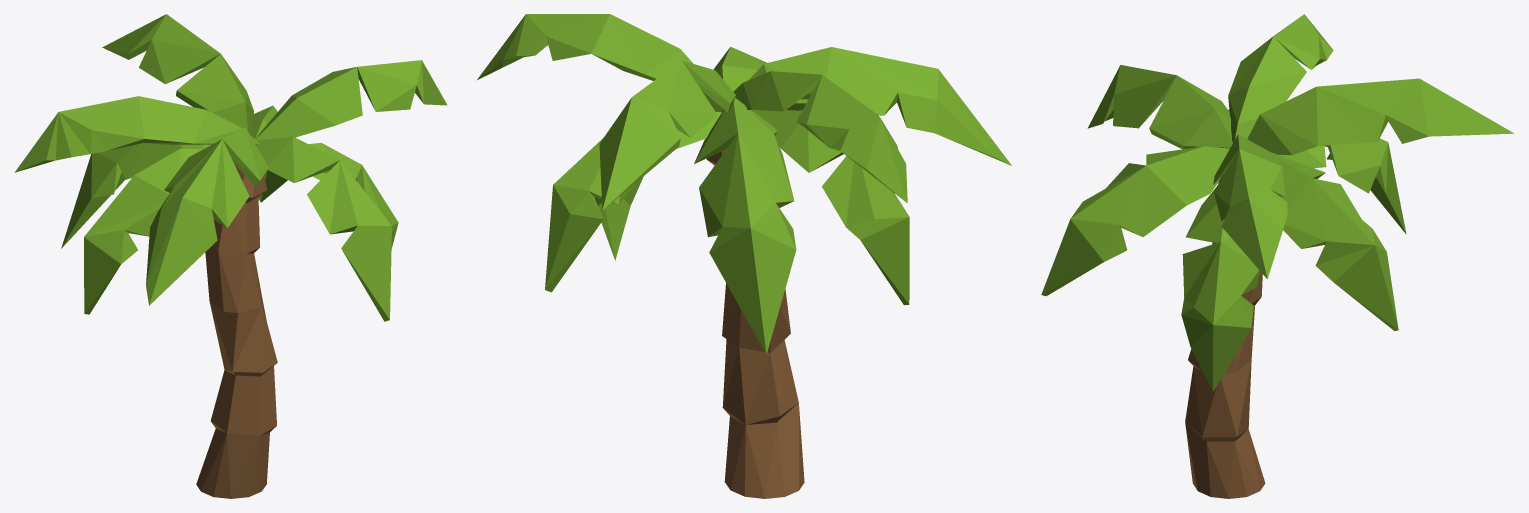
Rendered from palm.glb.
The picture shows the model from 3 angles, left to right: view 1: azimuth 30°, elevation 25°; view 2: azimuth 150°, elevation 25°; view 3: azimuth 270°, elevation 25°; orthographic projection. The views are drawn at different scales.
Visible parts, largest first — view 1: Environment_PalmTree_3; view 2: Environment_PalmTree_3; view 3: Environment_PalmTree_3.
Boxes of the visible parts, bbox=[...] form: Environment_PalmTree_3: bbox=[14, 14, 447, 498]; Environment_PalmTree_3: bbox=[477, 14, 1011, 498]; Environment_PalmTree_3: bbox=[1041, 14, 1513, 498].
Size of the model in its own units: 2.86 by 2.68 by 2.75.
1 material, 1 textured.
